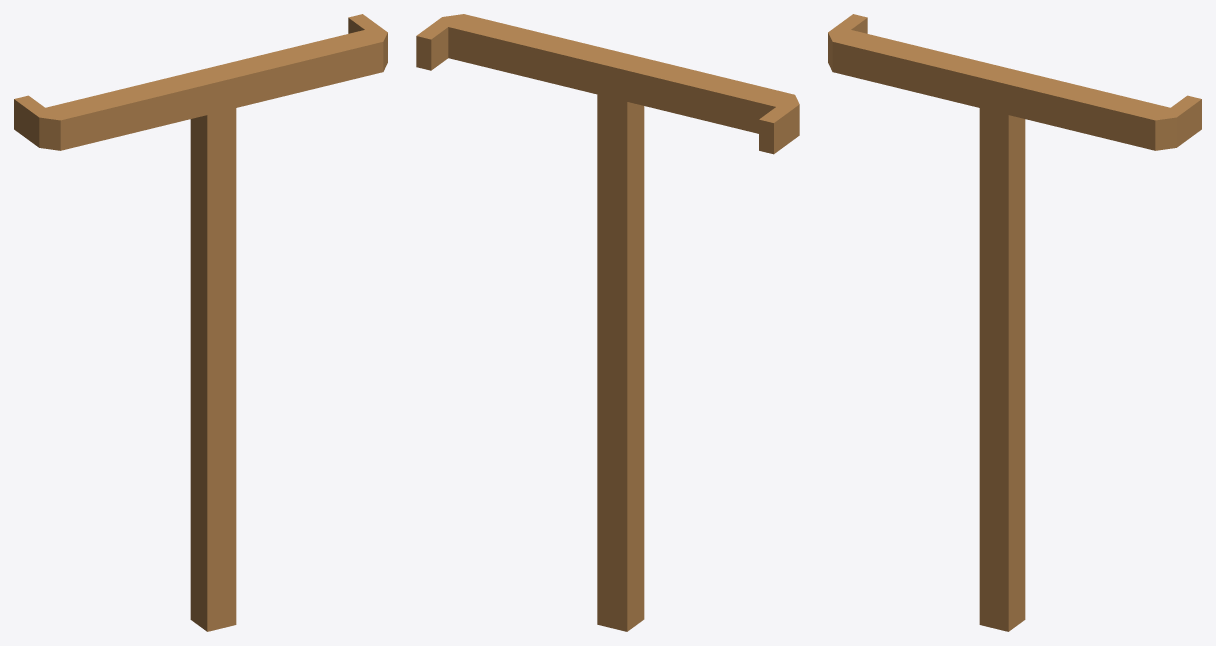
Rendered from Prop_Flag_Stand_Top.fbx.
The picture shows the model from 3 angles, left to right: view 1: azimuth 30°, elevation 25°; view 2: azimuth 150°, elevation 25°; view 3: azimuth 330°, elevation 25°; orthographic projection. The views are drawn at different scales.
Parts seen in each view (by area): view 1: object1; view 2: object1; view 3: object1.
Part boxes in pixels (left/top/right/bottom): object1: left=14, top=14, right=387, bottom=631; object1: left=416, top=14, right=799, bottom=631; object1: left=828, top=14, right=1201, bottom=631.
Size of the model in its own units: 0.54 by 0.81 by 0.09.
